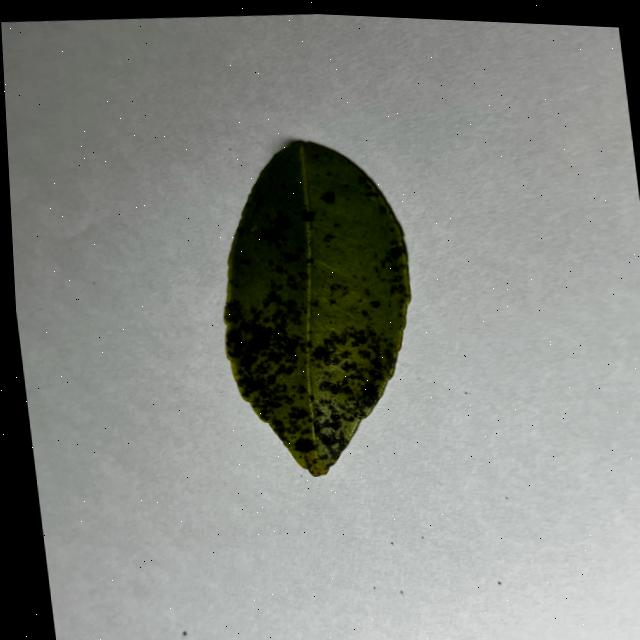sooty_mold: (223, 142, 408, 476)
